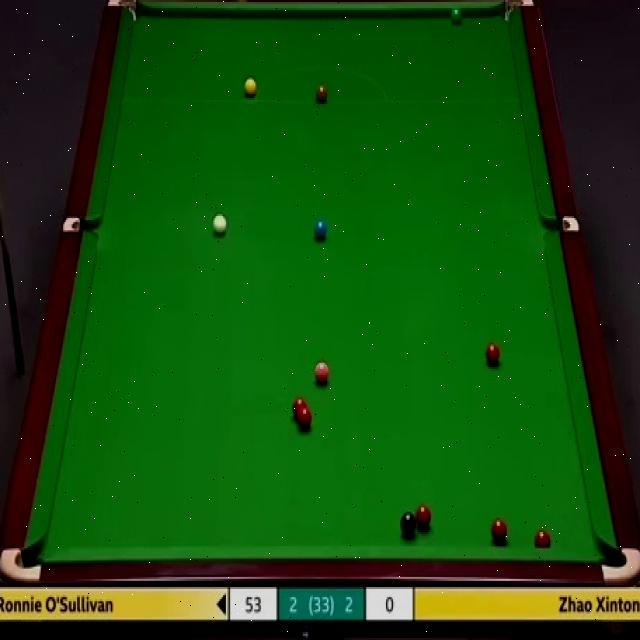black-ball: (400, 513, 417, 535)
blue-ball: (312, 221, 328, 239)
brown-ball: (316, 81, 328, 102)
green-ball: (450, 4, 461, 23)
pink-ball: (315, 361, 329, 385)
red-ball: (414, 505, 432, 533), (491, 516, 508, 542), (484, 342, 500, 368), (292, 397, 306, 423), (298, 410, 313, 430), (535, 530, 551, 547)
white-ball: (212, 214, 228, 238)
yellow-ball: (243, 80, 256, 96)
